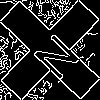N: (25, 25, 83, 83)
